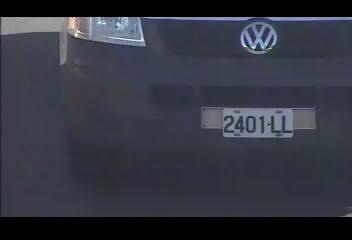plate: (222, 106, 294, 139)
